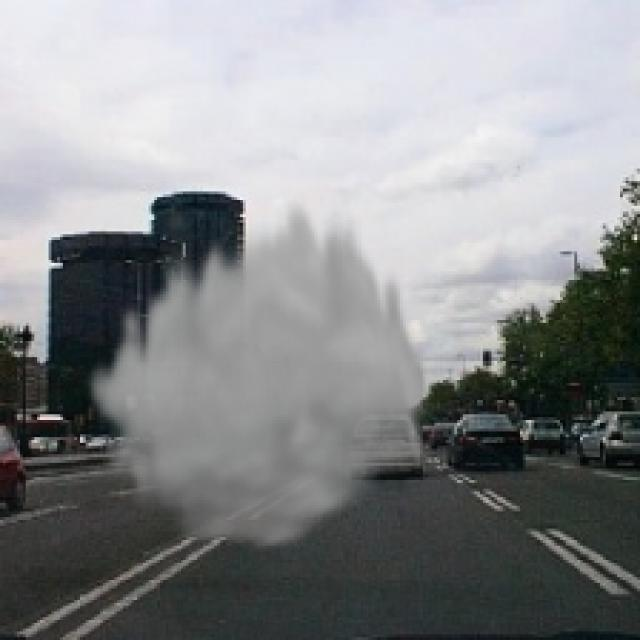Smoke: (82, 188, 432, 558)
